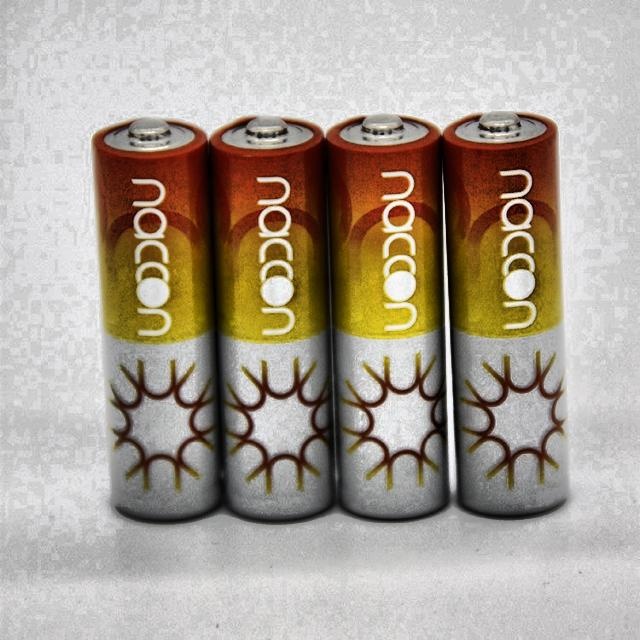Non-Valuable Waste - Batteries: (92, 119, 221, 520), (442, 111, 566, 516), (210, 116, 334, 520), (326, 115, 449, 519)
